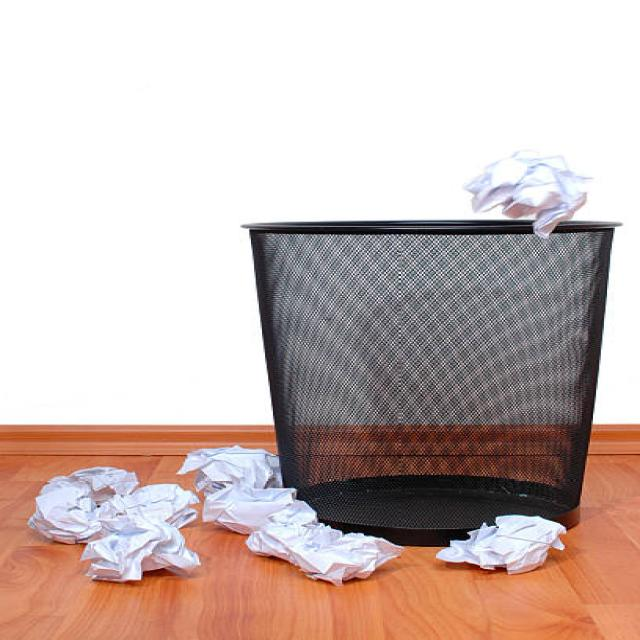electronic: (461, 148, 593, 238), (245, 520, 404, 586), (27, 465, 138, 544), (434, 514, 566, 574), (78, 518, 200, 582), (97, 483, 198, 532), (176, 444, 282, 490), (201, 483, 296, 533)
